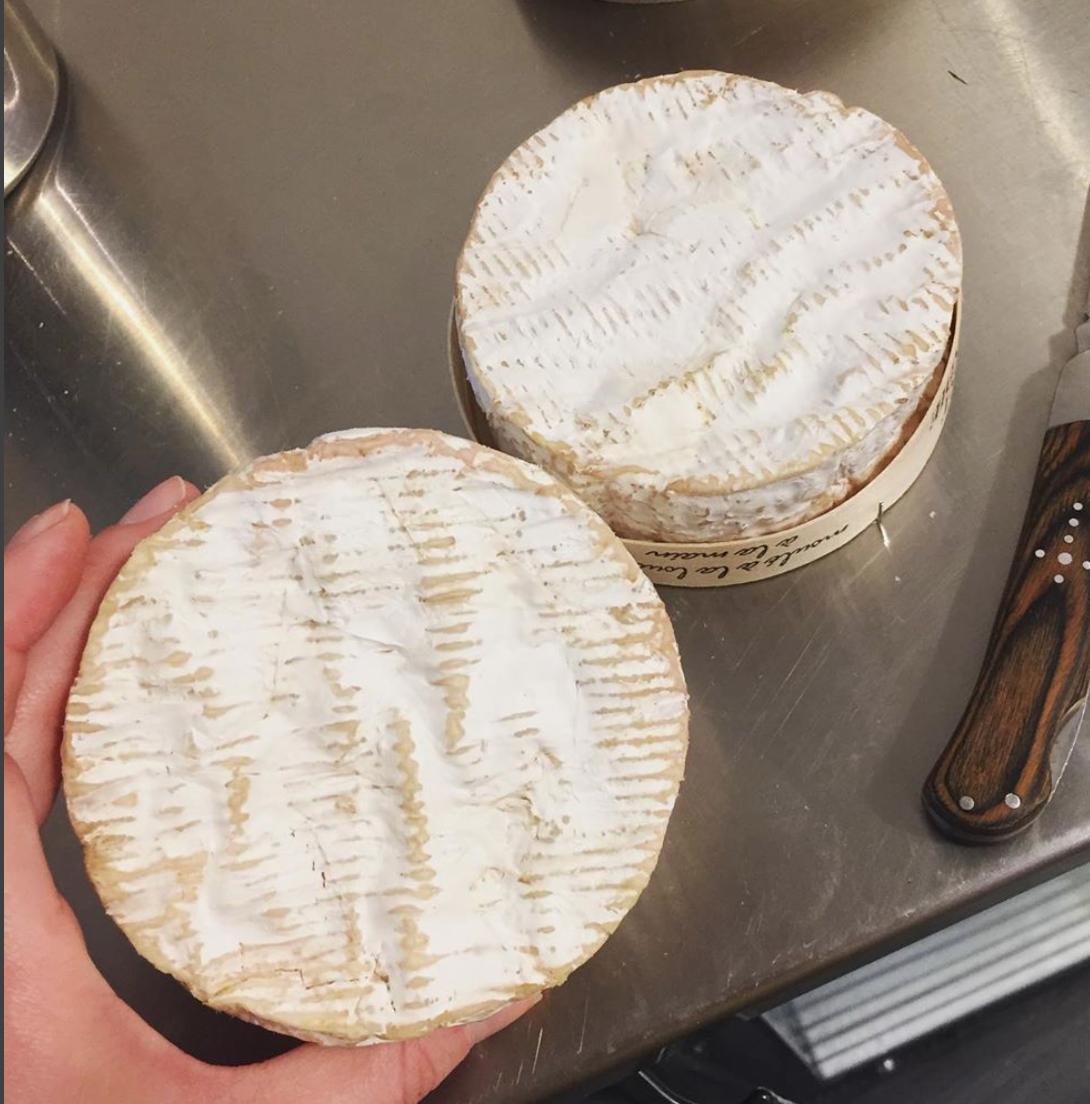camembert: (55, 423, 694, 1052), (454, 69, 968, 543)
